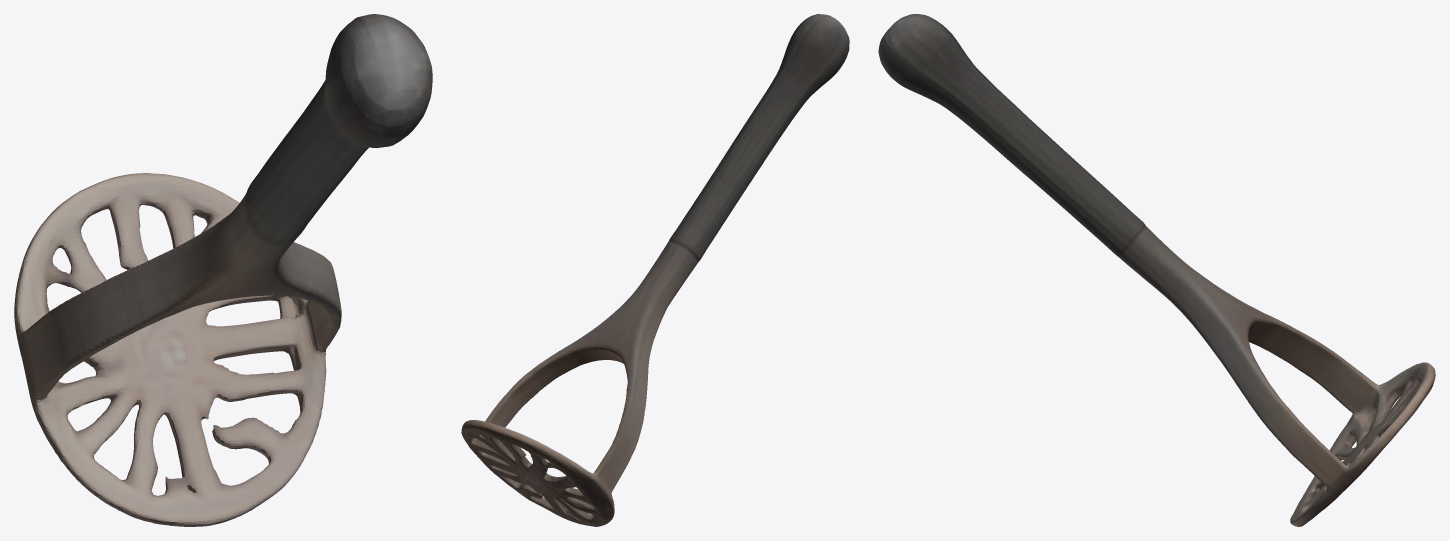
File: frame_0057_source_000057_object.glb
The picture shows the model from 3 angles, left to right: view 1: azimuth 30°, elevation 25°; view 2: azimuth 150°, elevation 25°; view 3: azimuth 270°, elevation 25°; orthographic projection. The views are drawn at different scales.
Parts seen in each view (by area): view 1: world; view 2: world; view 3: world.
Part boxes in pixels (x1,y1,x2,y2): world: [14, 14, 432, 526]; world: [461, 14, 849, 526]; world: [878, 14, 1435, 526].
Size of the model in its own units: 0.0926 by 0.1985 by 0.2194.
